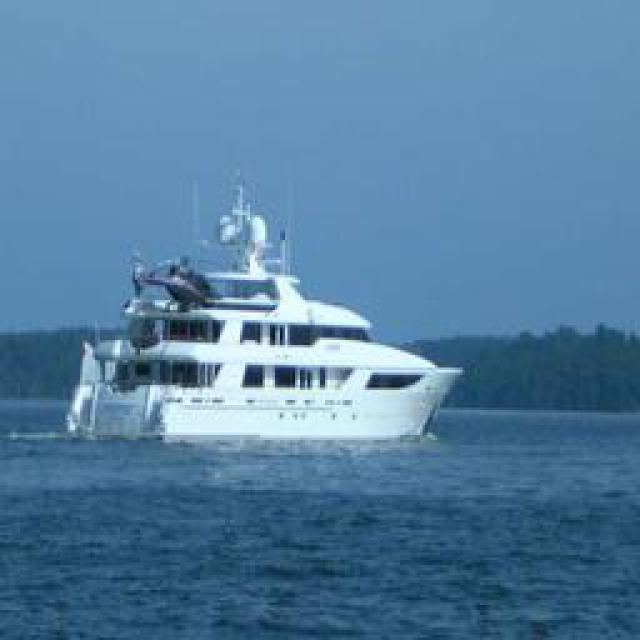Ship: (52, 170, 470, 453)
